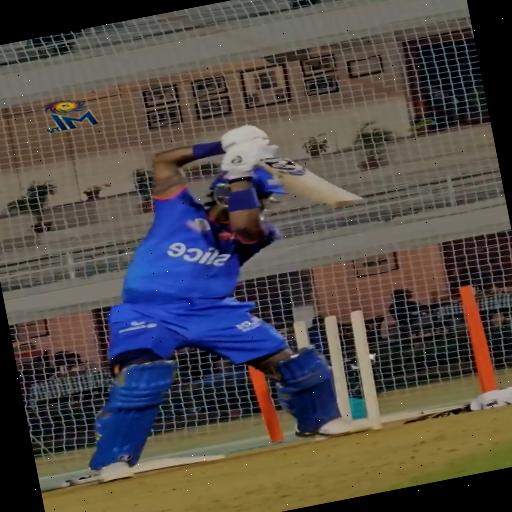Cricket bat: (262, 157, 362, 208)
